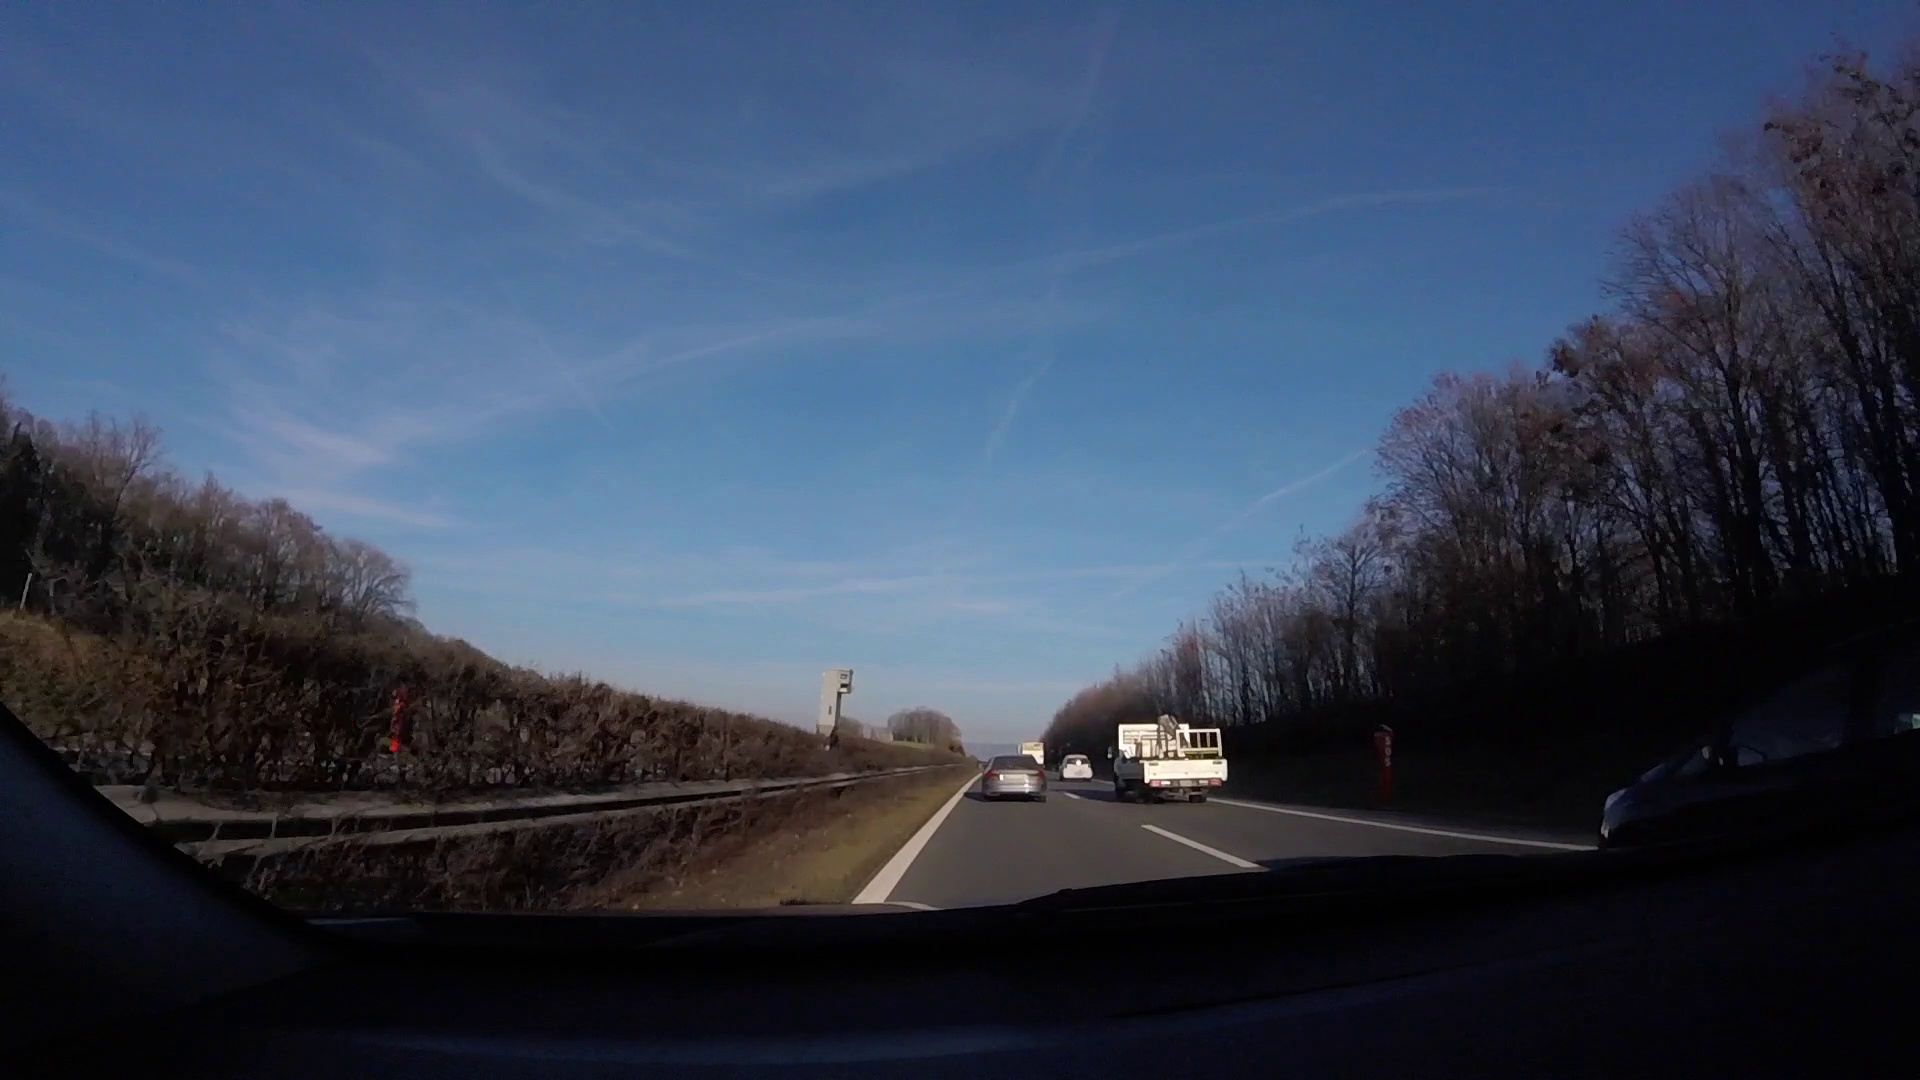radar: (816, 666, 857, 746)
